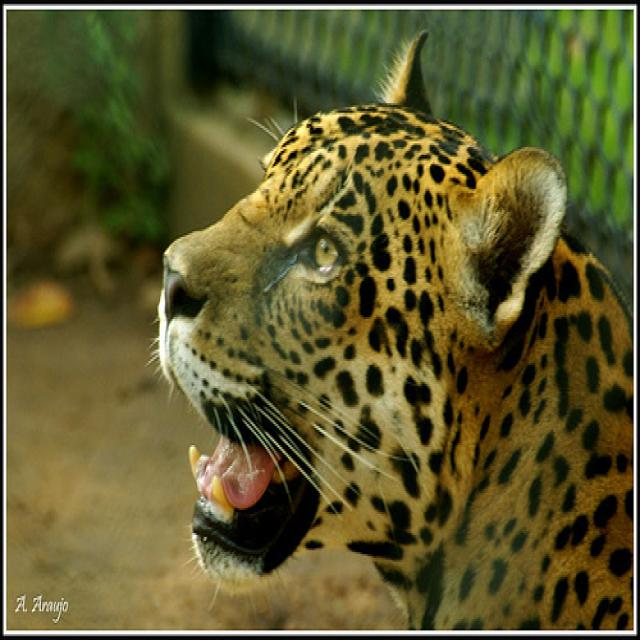Leopard: (142, 23, 635, 636)
